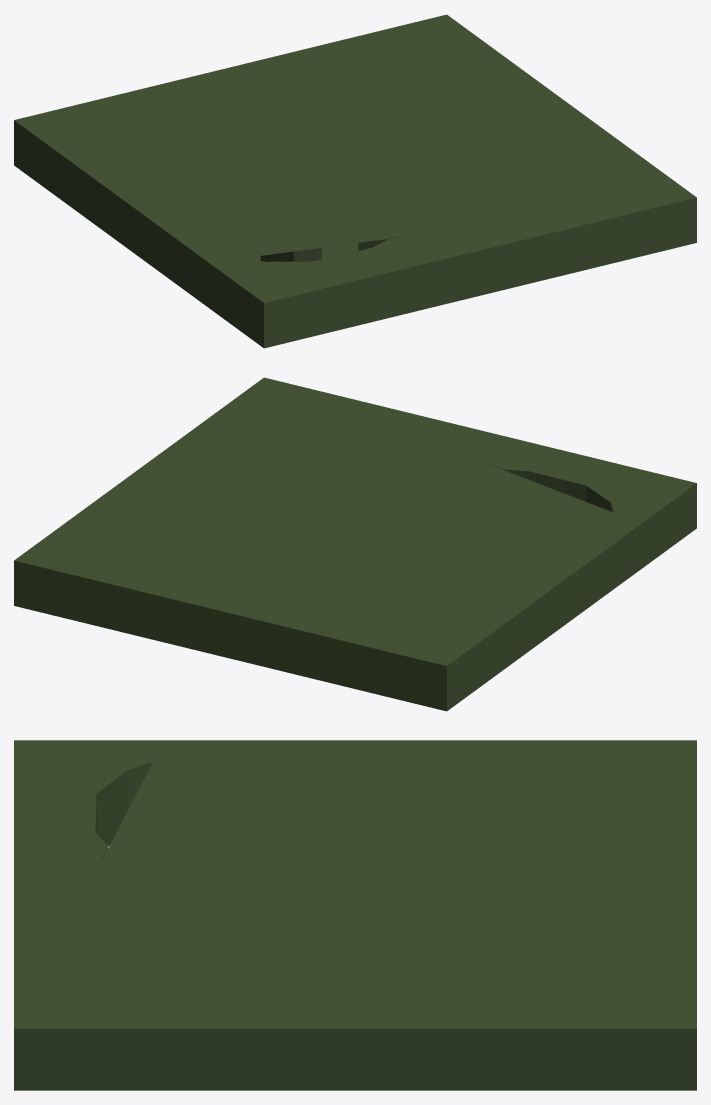
File: Enviro Object Wall.fbx
3 renders of one model, top to bottom at view 1: azimuth 30°, elevation 25°; view 2: azimuth 150°, elevation 25°; view 3: azimuth 270°, elevation 25°, orthographic. The views are drawn at different scales.
Visible parts, largest first — view 1: pPlane21; view 2: pPlane21; view 3: pPlane21.
Part boxes in pixels (<box>): pPlane21: <box>14,14,696,348</box>; pPlane21: <box>14,377,696,711</box>; pPlane21: <box>14,740,696,1090</box>.
Size of the model in its own units: 200 by 20 by 200.
